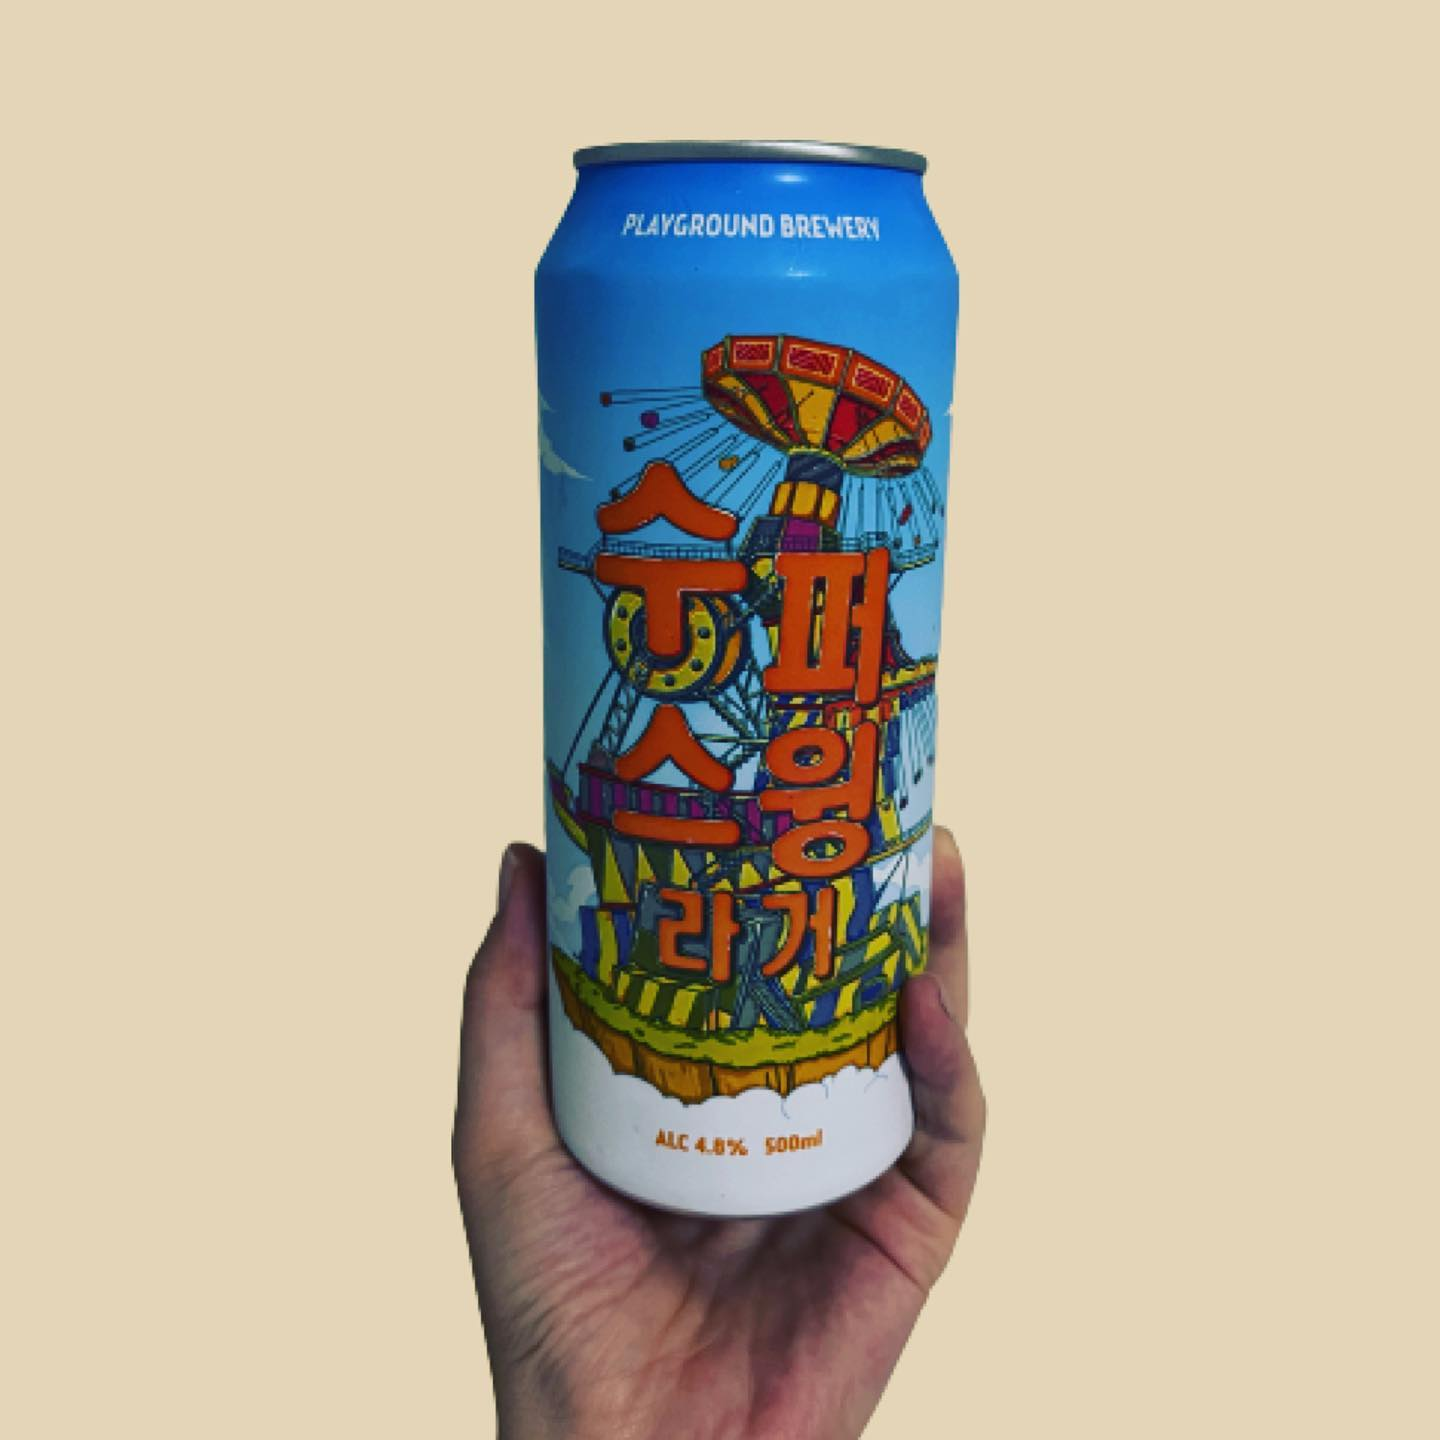alcohol: (522, 132, 971, 1232)
